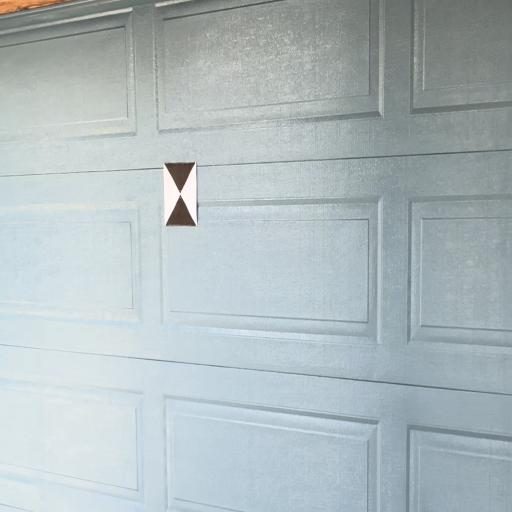target: (162, 163, 198, 226)
